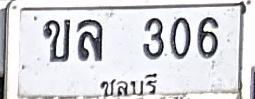0: (170, 16, 190, 59)
3: (142, 17, 164, 59)
6: (197, 16, 218, 58)
A02: (42, 19, 70, 62)
A36: (77, 18, 103, 61)
CBI: (96, 69, 159, 99)
